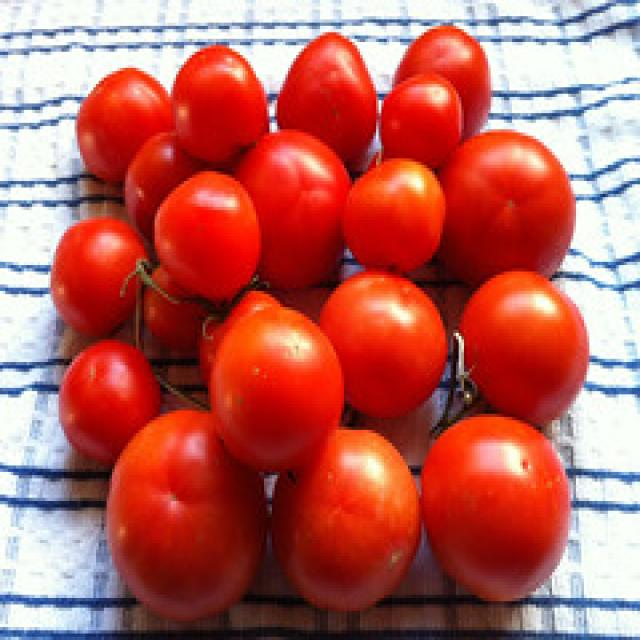Tomato: (105, 405, 267, 625), (419, 414, 572, 606), (269, 423, 421, 614), (437, 128, 579, 294), (209, 308, 345, 472), (454, 268, 592, 419), (318, 268, 451, 419), (226, 126, 350, 285), (150, 170, 265, 302), (54, 334, 165, 467), (158, 41, 275, 161), (271, 27, 378, 153), (389, 23, 497, 140), (339, 154, 444, 271), (47, 213, 151, 331), (74, 66, 175, 186), (376, 78, 465, 169)
